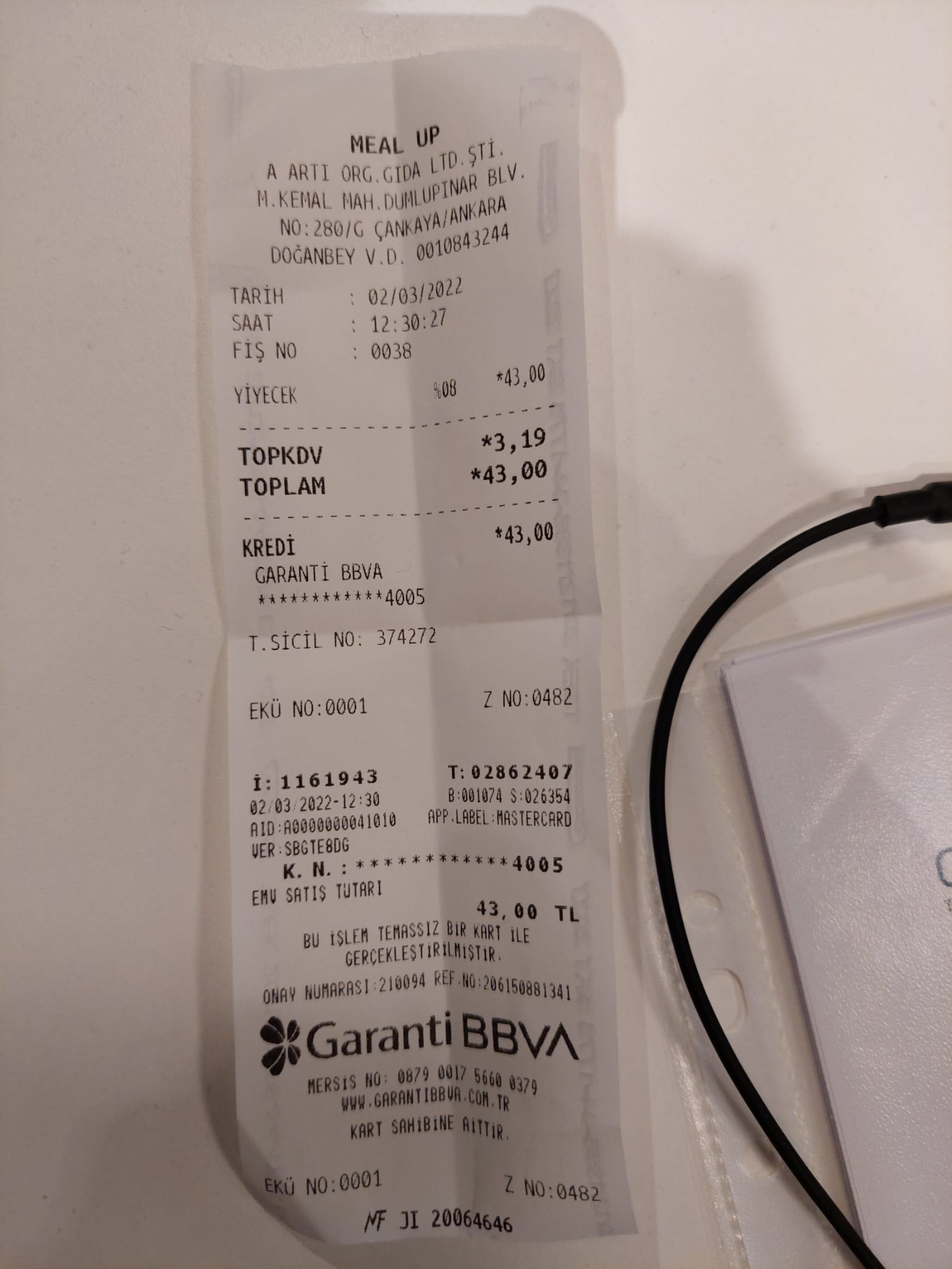date: (477, 455, 558, 494)
price: (364, 274, 468, 306)
workplace: (250, 113, 541, 244)
